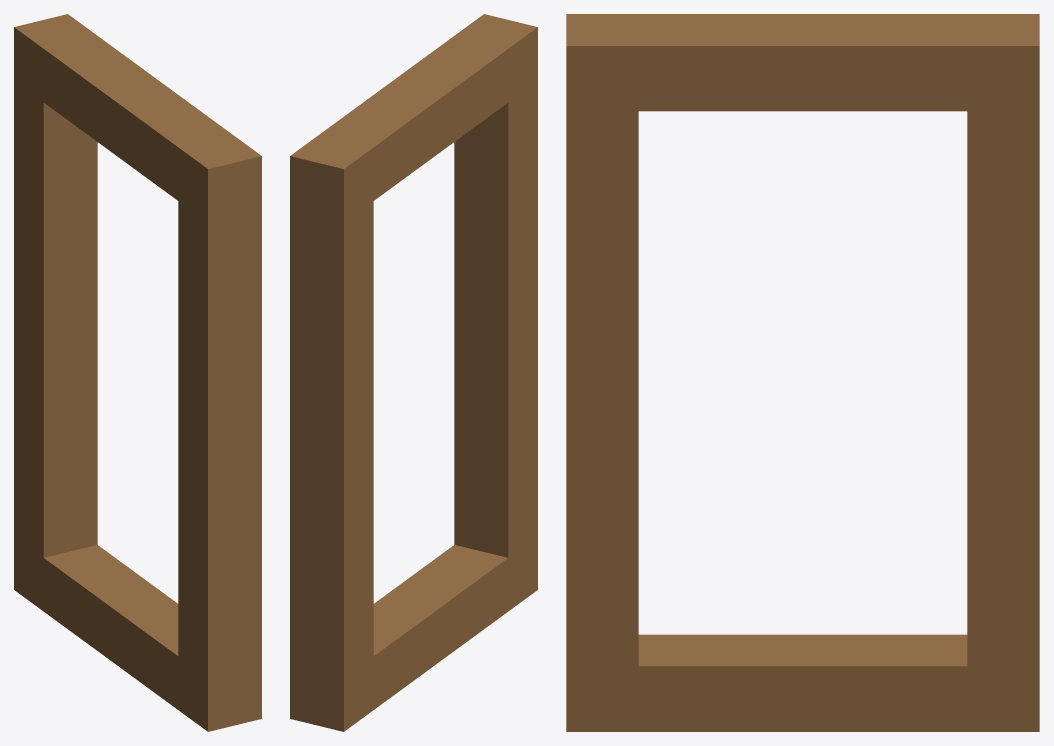
The model's file is detail_014.dae.
The picture shows the model from 3 angles, left to right: view 1: azimuth 30°, elevation 25°; view 2: azimuth 150°, elevation 25°; view 3: azimuth 270°, elevation 25°; orthographic projection. The views are drawn at different scales.
Parts seen in each view (by area): view 1: detail_014; view 2: detail_014; view 3: detail_014.
Part boxes in pixels (left/top/right/bottom): detail_014: left=14, top=14, right=261, bottom=731; detail_014: left=290, top=14, right=537, bottom=731; detail_014: left=566, top=14, right=1039, bottom=731.
Bounding box in the file's own units: 0.05 × 0.5 × 0.3125.
